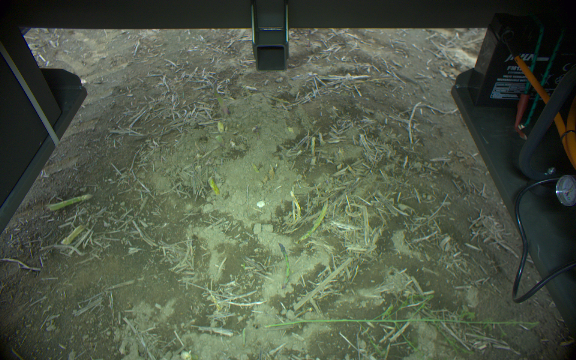aspa: (300, 200, 331, 244), (50, 192, 93, 211), (278, 242, 291, 290), (206, 173, 219, 195)
